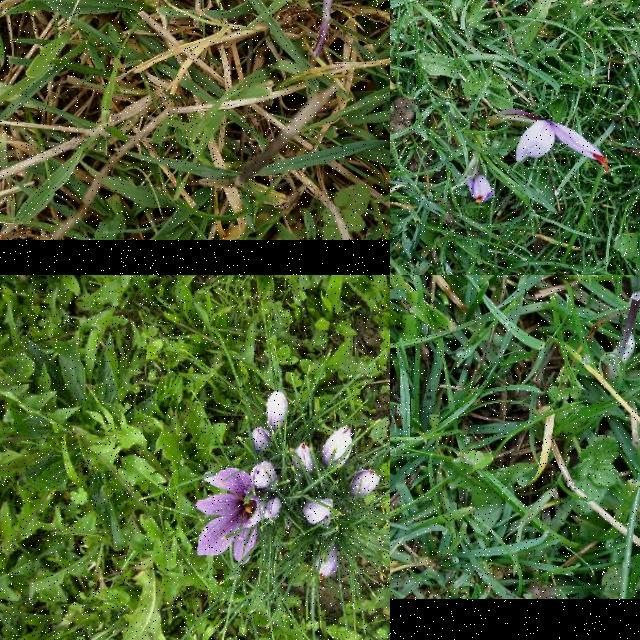flower: (195, 468, 263, 566), (516, 121, 610, 175), (321, 426, 353, 470), (349, 469, 381, 499), (316, 543, 340, 581), (266, 391, 290, 429), (249, 461, 279, 491), (302, 499, 334, 527), (466, 176, 496, 204), (294, 443, 316, 475), (252, 427, 272, 455), (264, 497, 282, 523)
